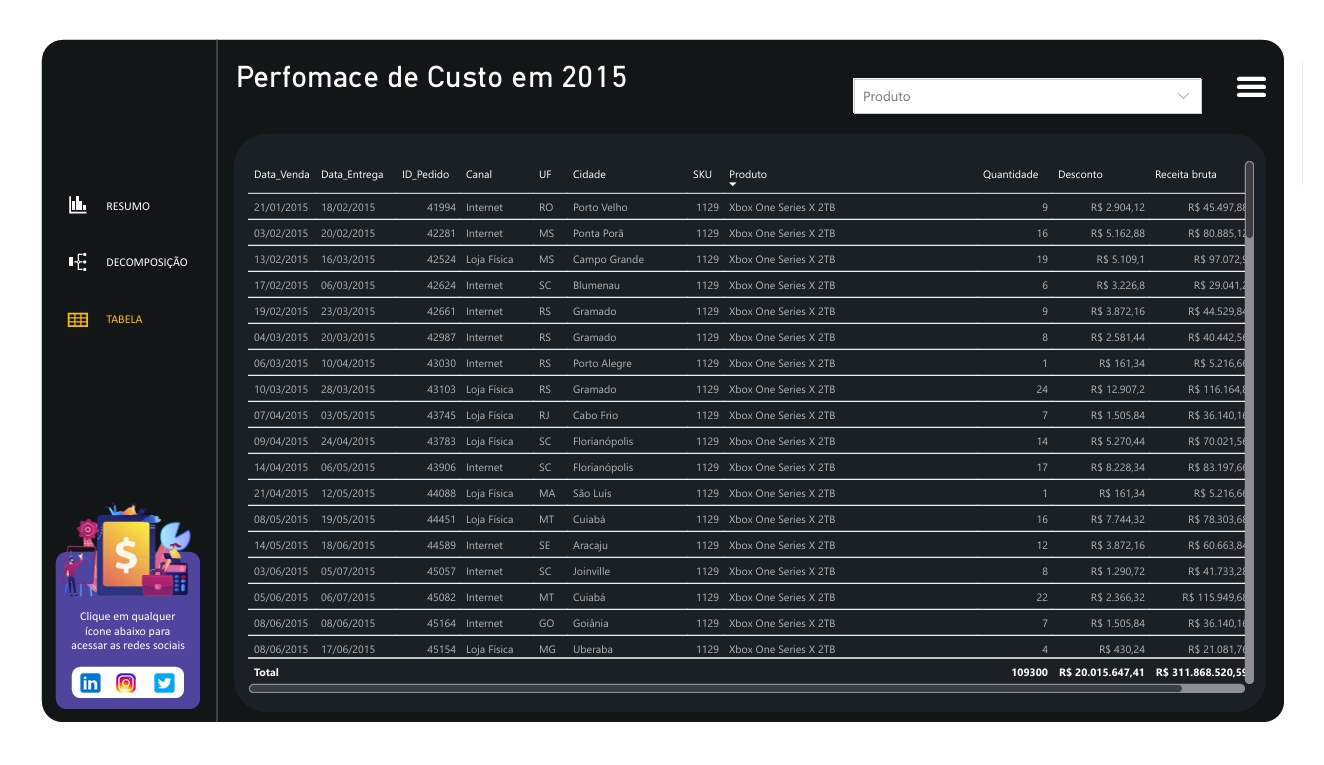

What the dashboard file says about the page in this screenshot:
{"tool":"powerbi","page":{"name":"Tabela","canvas":[1280,720],"ordinal":2},"visuals":[{"type":"actionButton","title":"btn_menu_resumo","box":[35.4,165.4,142.3,36.2],"z":0},{"type":"actionButton","title":"btn_menu_decomposicao","box":[37,220.7,142,35.8],"z":1000},{"type":"SmartFilterBySQLBI1458262140625","fields":{"Values":["dim_produto.Descricao_Produto"]},"box":[826,48,360,300],"z":1500},{"type":"tableEx","fields":{"Values":["fato_vendas.Data_Venda","fato_vendas.Data_Entrega.Variation.Hierarquia de datas.Ano","fato_vendas.ID_Pedido","dim_canal.Descricao_Canal","dim_cidade.UF","dim_cidade.Cidade","dim_produto.ID_Produto","dim_produto.Descricao_Produto","medidas.Quantidade","medidas.Desconto","medidas.Receita bruta","dim_clientes.ID_Cliente"]},"box":[220,133,1016,542],"z":1750},{"type":"actionButton","title":"btn_filtro_abrir","box":[1209.2,47.5,39.2,36.7],"z":3000},{"type":"textbox","box":[208,36,586,65],"z":7000}]}

Visuals, with their boxes in screenshot pixels (x1, y1, x2, y2), scaled from the page's 1280x720 canvas onto the 1324x765 screenshot:
"btn_menu_resumo" actionButton: 37:176:184:214
"btn_menu_decomposicao" actionButton: 38:234:185:273
SmartFilterBySQLBI1458262140625 - dim_produto.Descricao_Produto: 854:51:1227:370
tableEx - fato_vendas.Data_Venda x fato_vendas.Data_Entrega.Variation.Hierarquia de datas.Ano: 228:141:1278:717
"btn_filtro_abrir" actionButton: 1251:50:1291:89
textbox: 215:38:821:107
